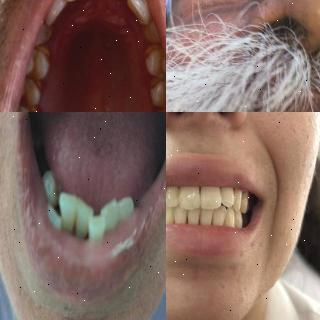maligned: (41, 193, 66, 241), (142, 7, 166, 43), (87, 213, 109, 245), (201, 183, 221, 213), (222, 182, 236, 208), (210, 204, 226, 226)
stains: (32, 42, 52, 76), (145, 46, 165, 78), (148, 73, 166, 105), (130, 0, 154, 23), (28, 77, 46, 104), (19, 102, 44, 112)
